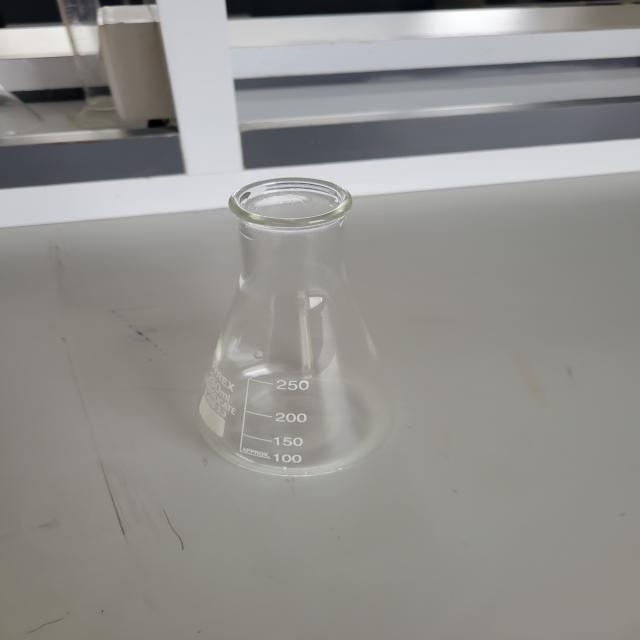Conical_Flask: (180, 159, 428, 499)
